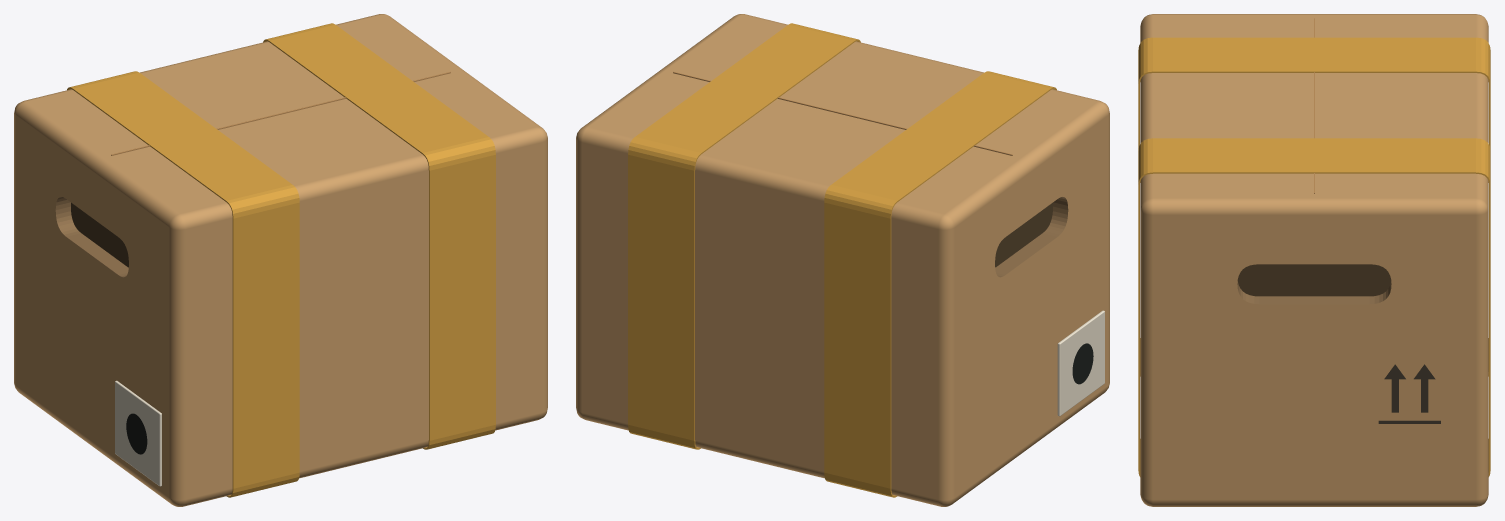
The model's file is play-parcel-large-yellow.glb.
3 views of the same model, side by side, from view 1: azimuth 30°, elevation 25°; view 2: azimuth 150°, elevation 25°; view 3: azimuth 270°, elevation 25° (orthographic). The views are drawn at different scales.
Visible parts, largest first — view 1: Parcel_Carton, Parcel_Tape_Parallel_1, Parcel_Tape_Parallel_2, Parcel_Paper_Label, Parcel_Carry_Slot_Walls_Negative_X, Parcel_Carry_Slot_Interior_Negative_X, Parcel_Label_Circle; view 2: Parcel_Carton, Parcel_Tape_Parallel_1, Parcel_Tape_Parallel_2, Parcel_Paper_Label, Parcel_Carry_Slot_Walls_Negative_X, Parcel_Carry_Slot_Interior_Negative_X, Parcel_Label_Circle; view 3: Parcel_Carton, Parcel_Tape_Parallel_2, Parcel_Tape_Parallel_1, Parcel_Carry_Slot_Interior_Positive_X, Parcel_Carry_Slot_Walls_Positive_X, Parcel_Up_Arrows_Positive_X.
Part boxes in pixels (box(x1,y1,x2,y2)): Parcel_Carton: box(14, 14, 547, 506); Parcel_Tape_Parallel_1: box(67, 71, 299, 497); Parcel_Tape_Parallel_2: box(263, 23, 495, 449); Parcel_Paper_Label: box(115, 380, 161, 486); Parcel_Carry_Slot_Walls_Negative_X: box(55, 197, 128, 277); Parcel_Carry_Slot_Interior_Negative_X: box(71, 202, 128, 267); Parcel_Label_Circle: box(126, 413, 147, 454); Parcel_Carton: box(576, 14, 1109, 506); Parcel_Tape_Parallel_1: box(824, 71, 1056, 497); Parcel_Tape_Parallel_2: box(628, 23, 860, 449); Parcel_Paper_Label: box(1057, 310, 1104, 416); Parcel_Carry_Slot_Walls_Negative_X: box(995, 197, 1068, 277); Parcel_Carry_Slot_Interior_Negative_X: box(995, 202, 1052, 267); Parcel_Label_Circle: box(1072, 343, 1093, 384); Parcel_Carton: box(1140, 14, 1488, 506); Parcel_Tape_Parallel_2: box(1138, 138, 1490, 476); Parcel_Tape_Parallel_1: box(1138, 37, 1490, 376); Parcel_Carry_Slot_Interior_Positive_X: box(1237, 264, 1391, 296); Parcel_Carry_Slot_Walls_Positive_X: box(1237, 281, 1391, 304); Parcel_Up_Arrows_Positive_X: box(1378, 364, 1440, 423).
Bounding box in the file's own units: 0.2526 × 0.187 × 0.192.
